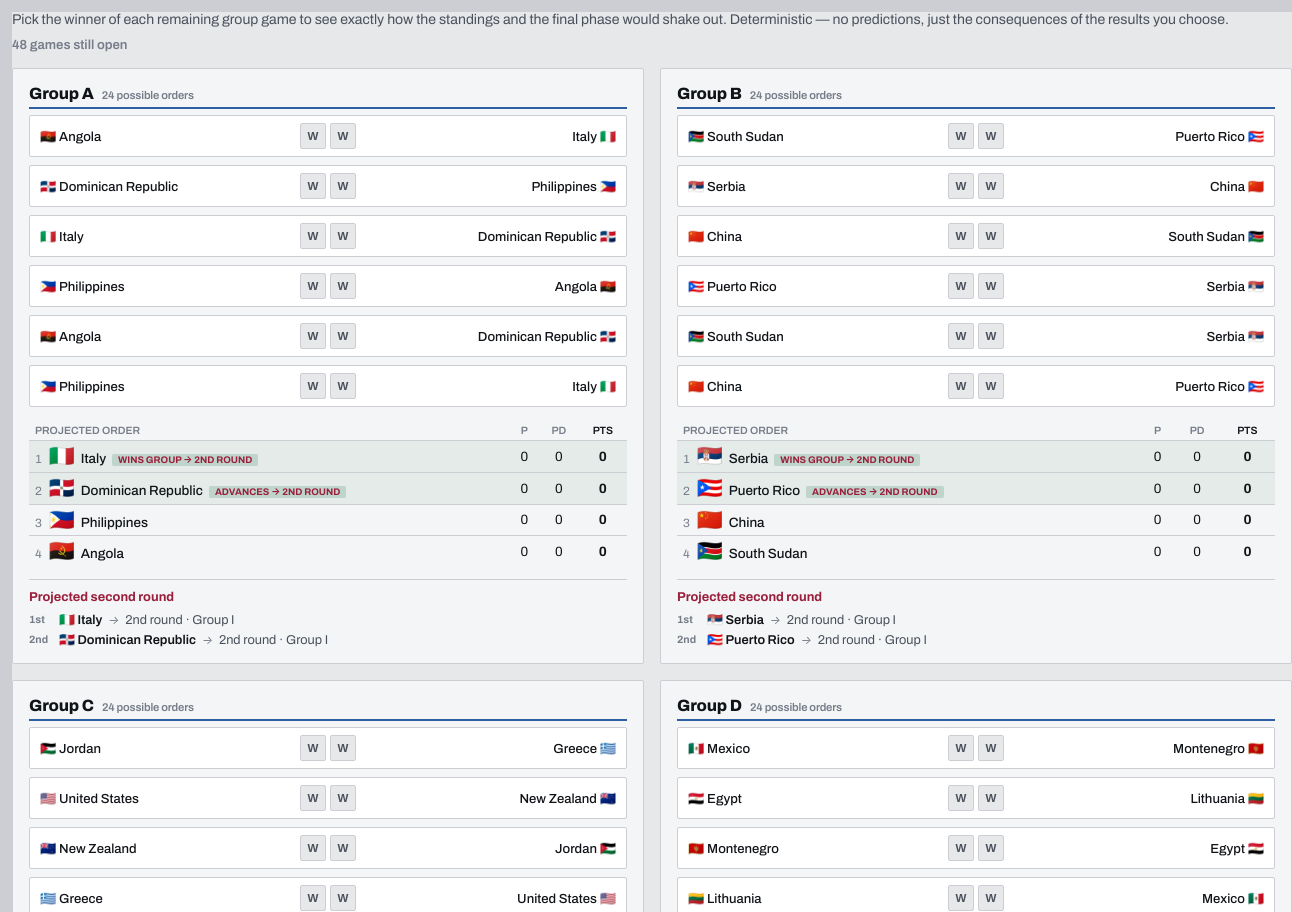
Test case: ScenariosView remaining arms › steps the away team’s score
The image size is (1292, 912).
Click the 1st button "W" at (313, 136), box x1=300 y1=123 x2=326 y2=149
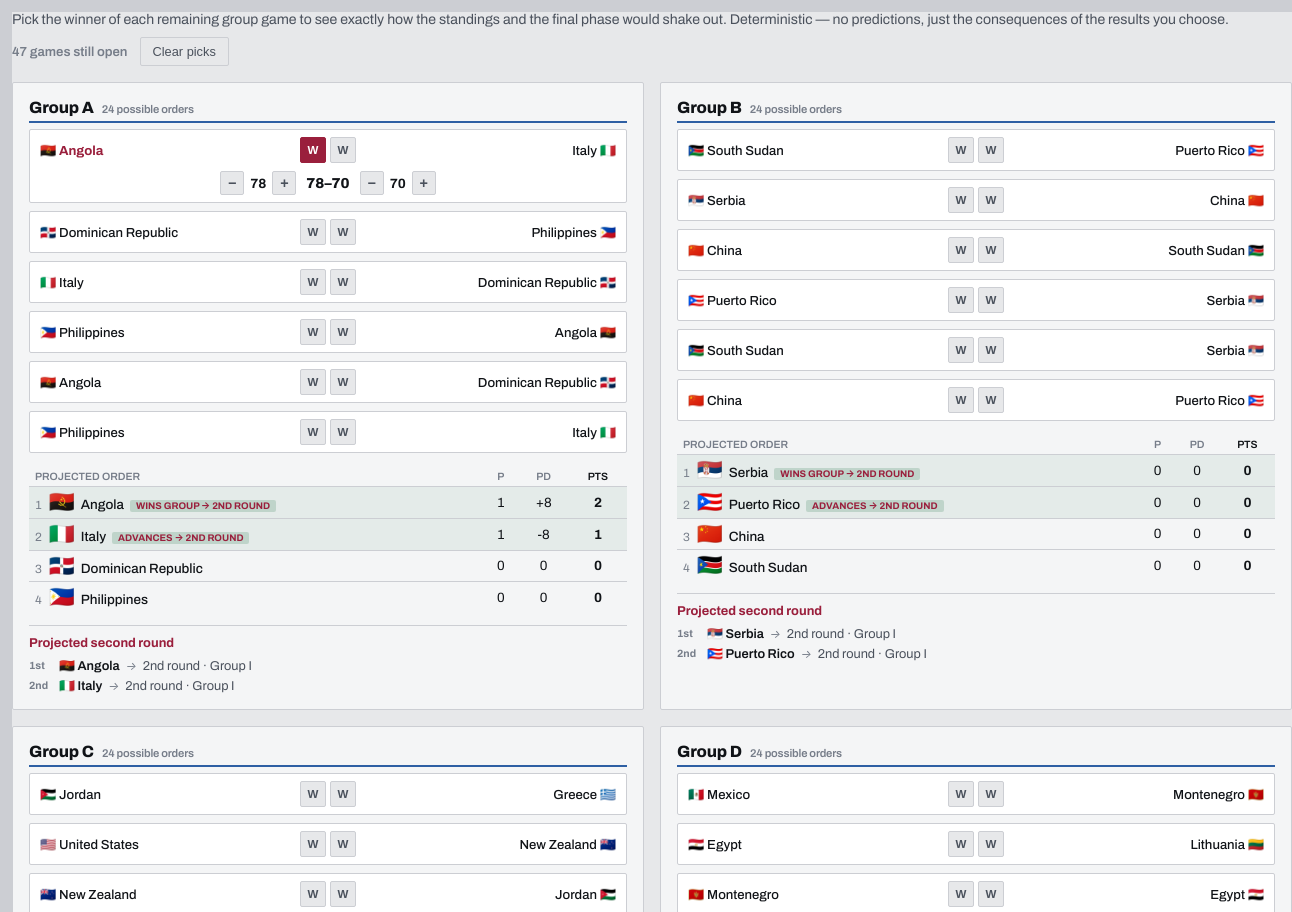
Click the button named "plus" at (424, 183), box x1=412 y1=171 x2=436 y2=195
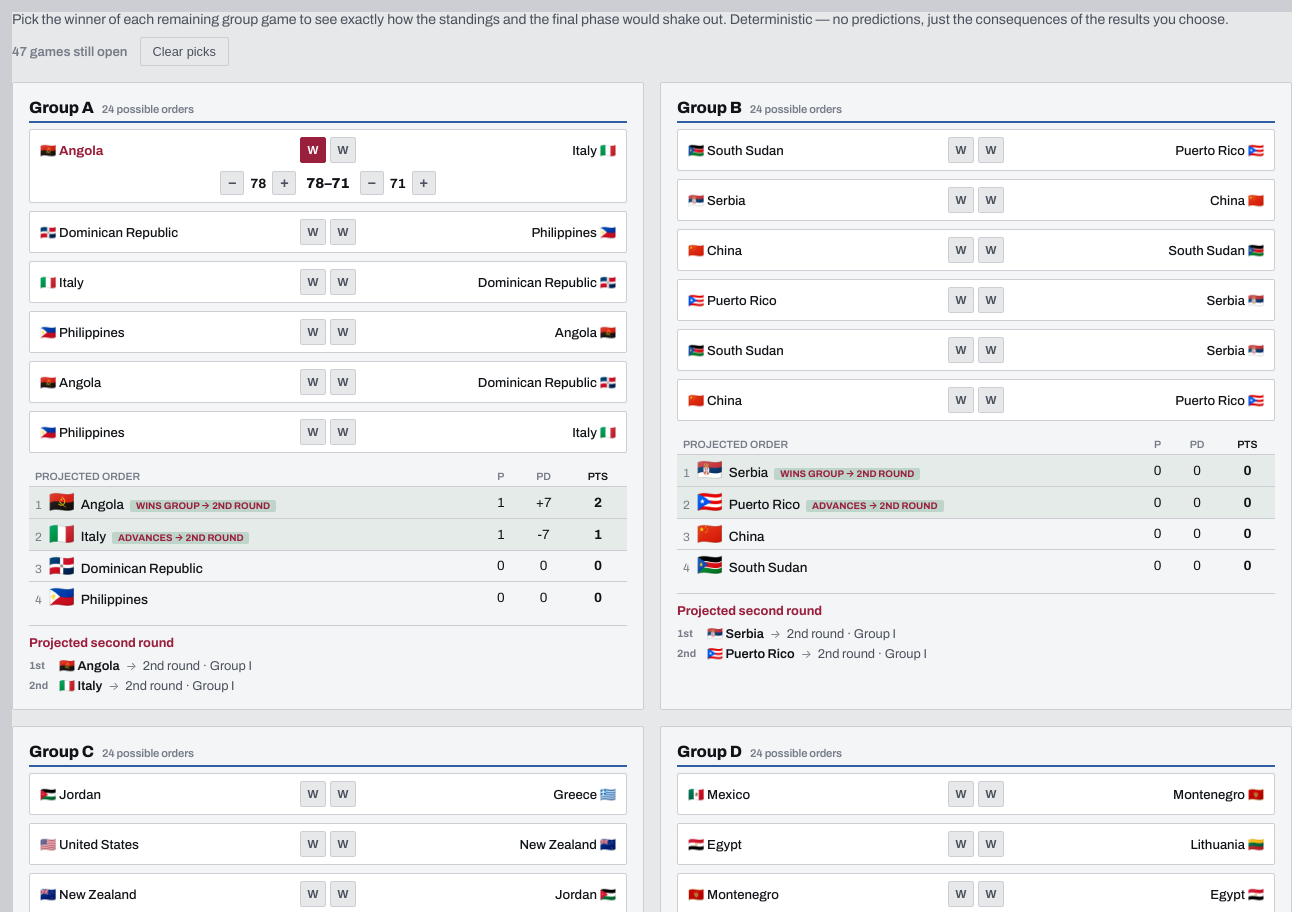
Now the text "78–71" is shown, box x1=306 y1=175 x2=350 y2=191
